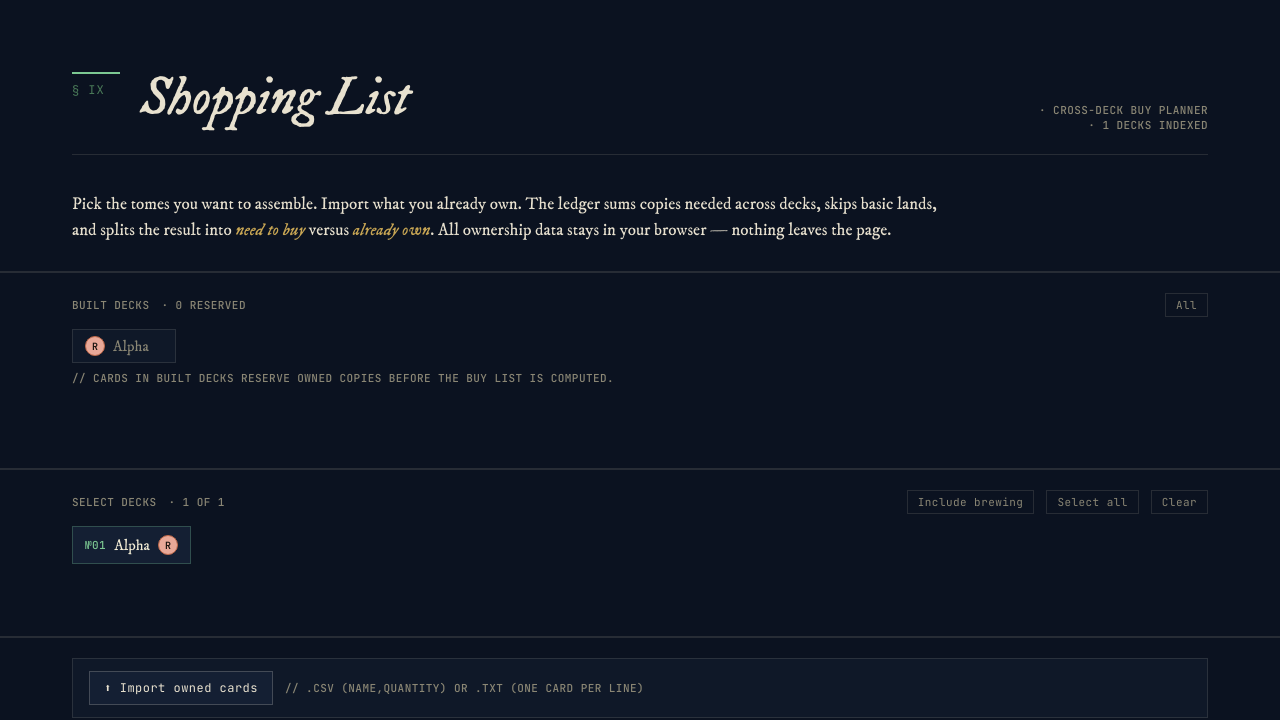
Test: Shopping organism › drops brewing decks from the selection when the toggle is turned back off (DEC-338)
Click the button "Include brewing": (971, 502) [907, 490, 1034, 514]
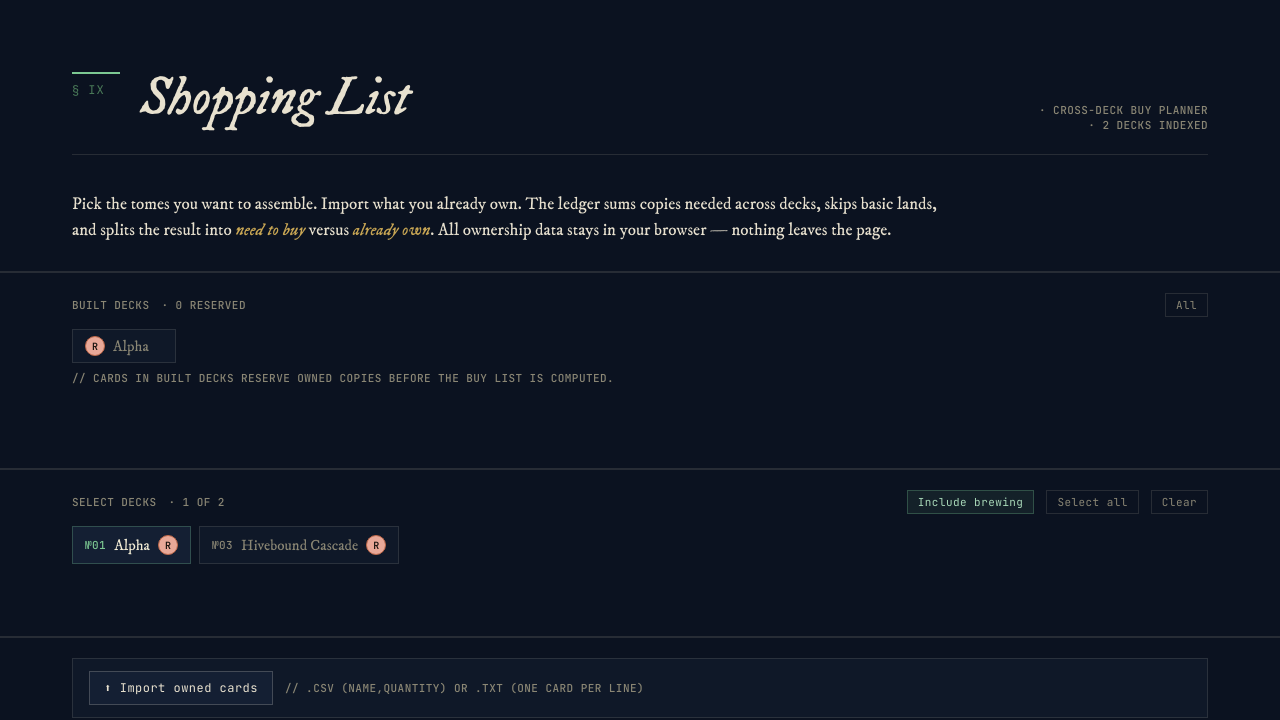
Click the button with aria-label "Add Hivebound Cascade": (299, 546) [199, 526, 399, 564]
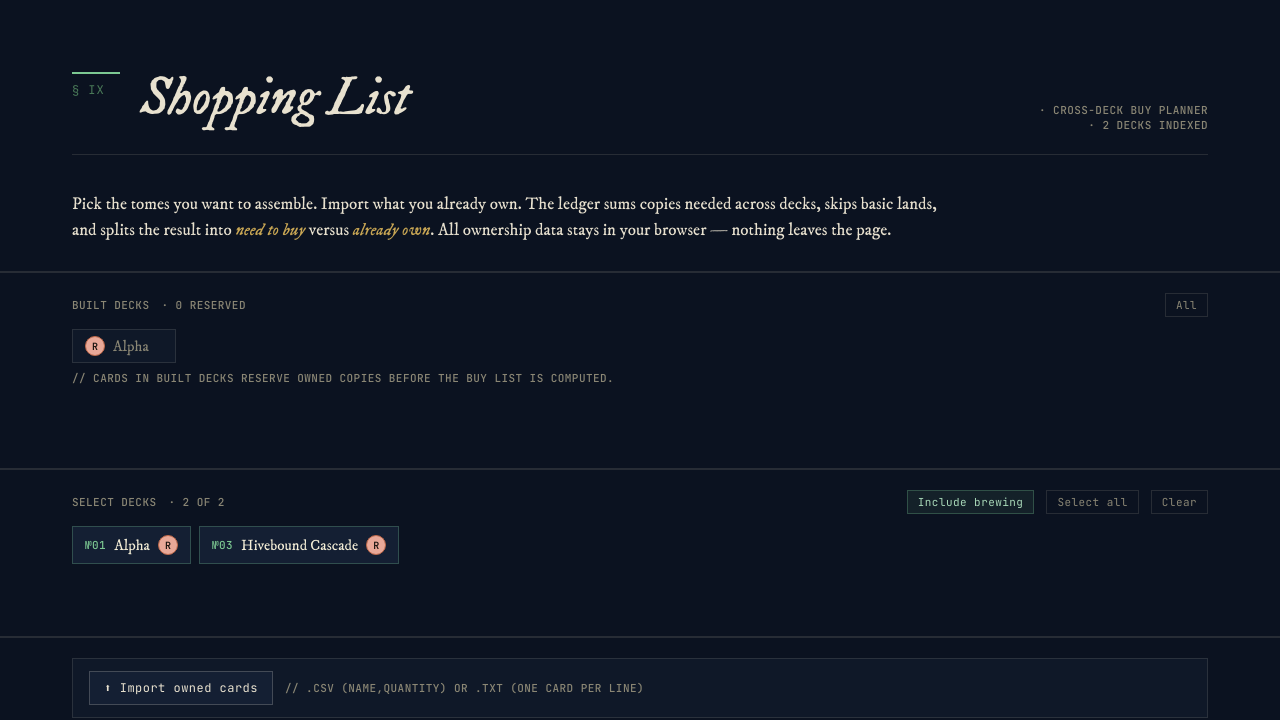
Click the button "Include brewing": (971, 502) [907, 490, 1034, 514]
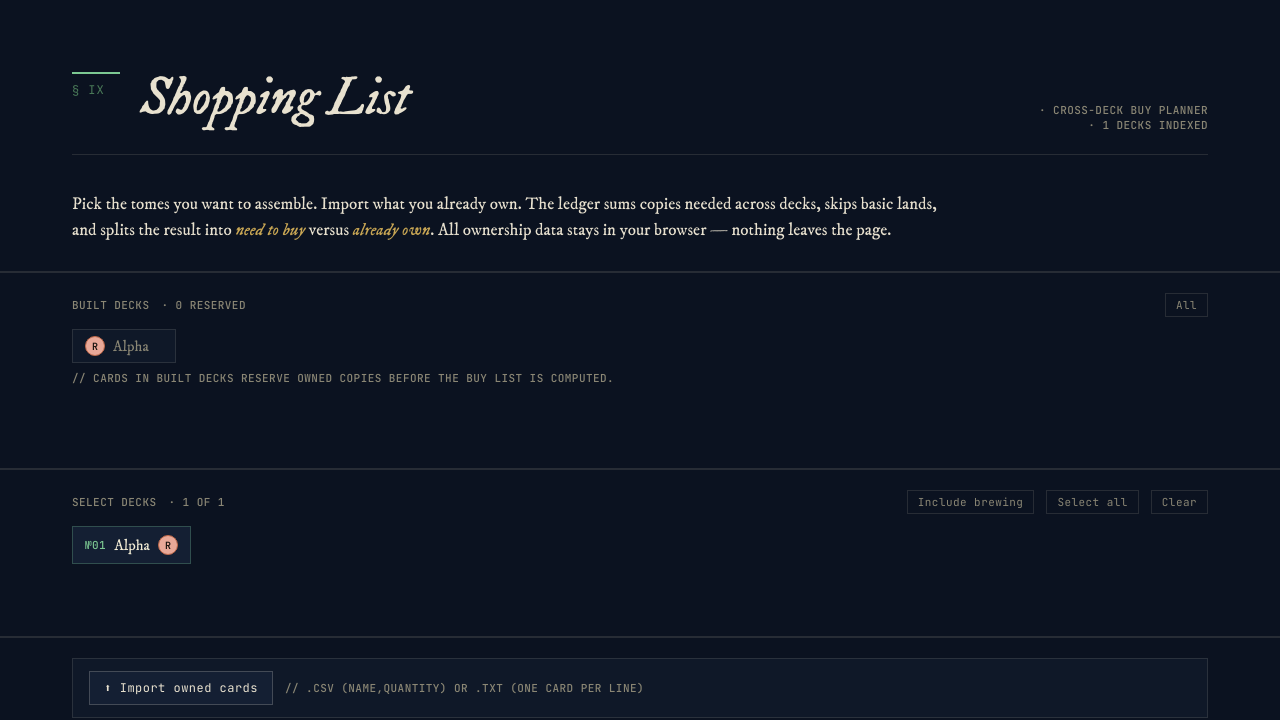
Expected: the text "· 1 of 1" is shown, [168, 496, 225, 510]
